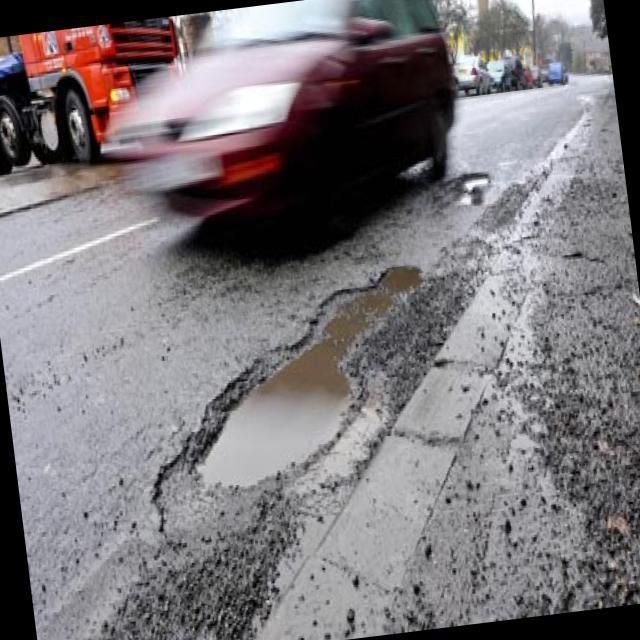Pothole: (95, 224, 492, 508), (440, 150, 513, 222)
